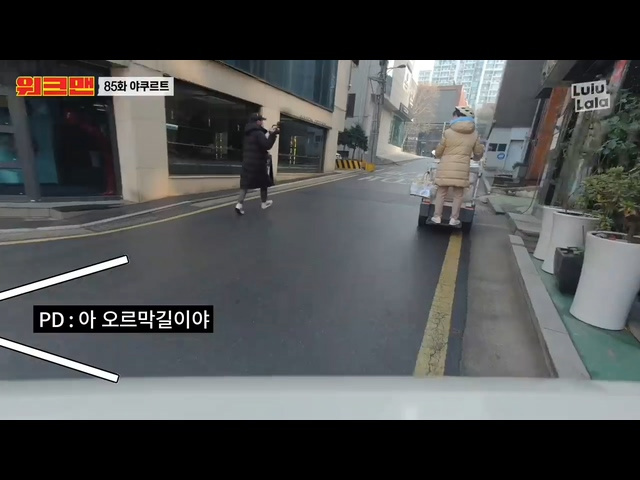Yakurut: (437, 106, 478, 229)
